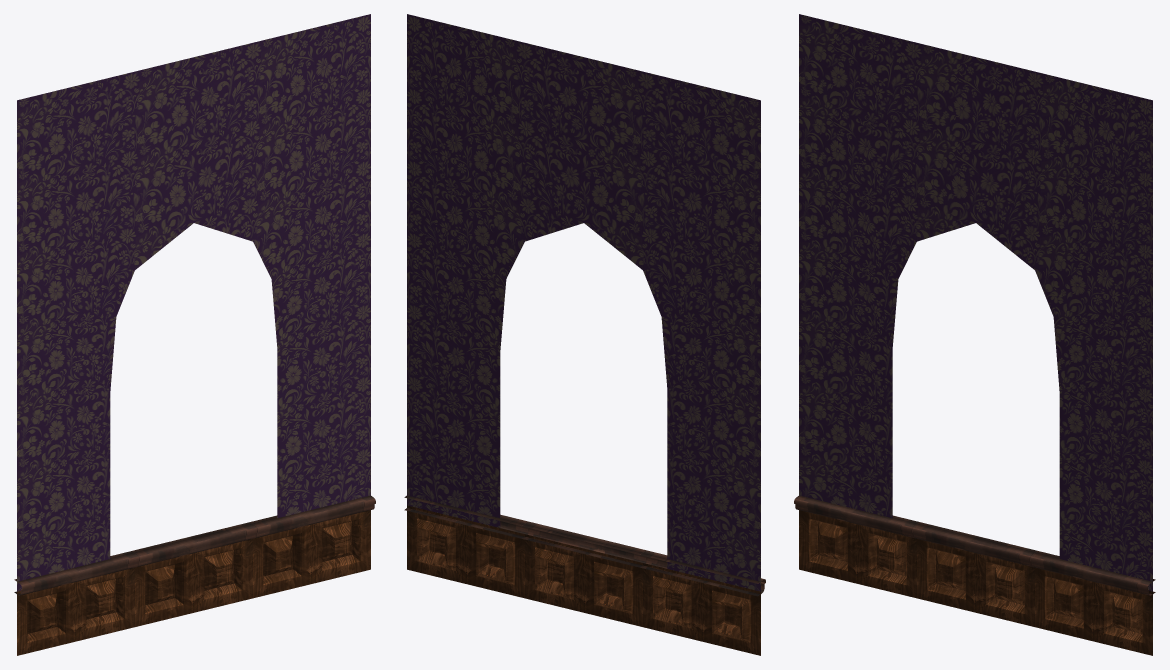
Rendered from ba_room_win.fbx.
3 views of the same model, side by side, from view 1: azimuth 30°, elevation 25°; view 2: azimuth 150°, elevation 25°; view 3: azimuth 330°, elevation 25° (orthographic).
Parts seen in each view (by area): view 1: ba_room_win; view 2: ba_room_win; view 3: ba_room_win.
Part boxes in pixels (x1,y1,x2,y2): ba_room_win: (14,14,375,655); ba_room_win: (404,14,765,655); ba_room_win: (794,14,1155,655).
Bounding box in the file's own units: 300 × 450 × 13.38.
